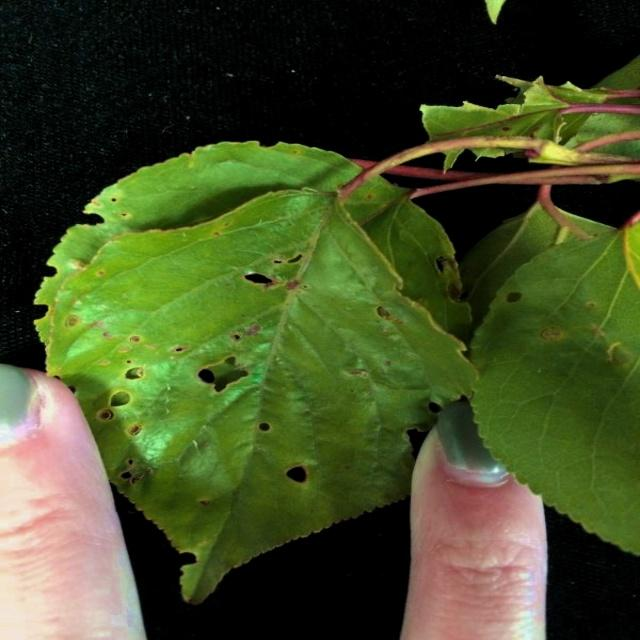shot_hole: (31, 128, 438, 600)
